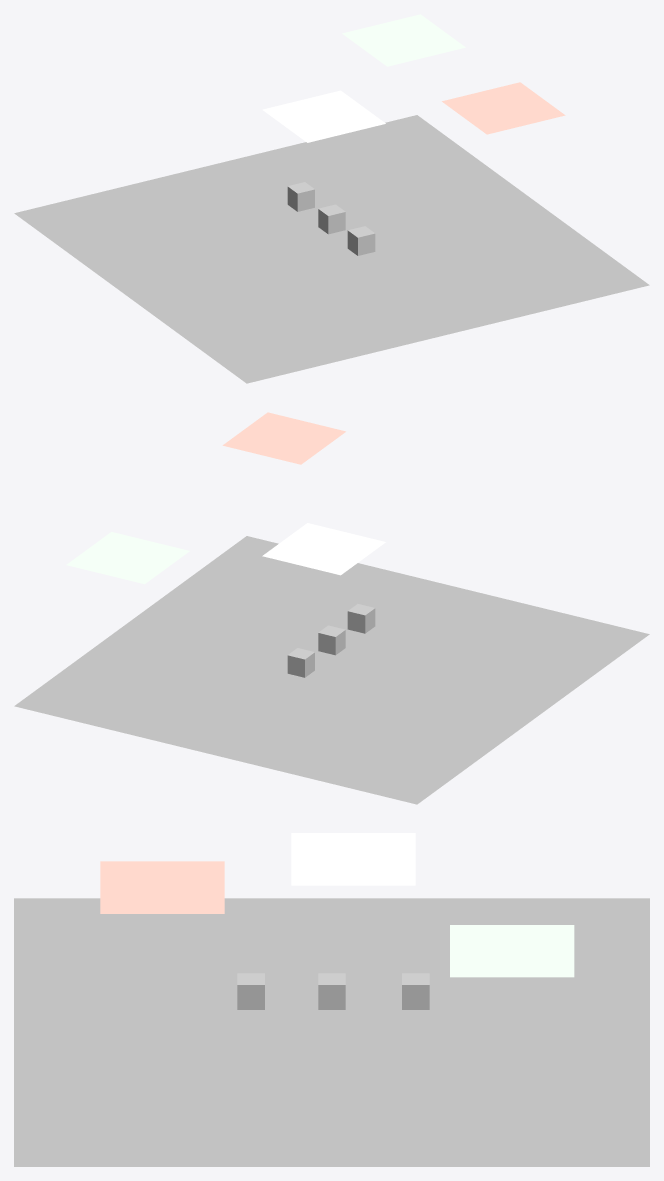
File: direct_lighting_test.glb
3 views of the same model, one above another, from view 1: azimuth 30°, elevation 25°; view 2: azimuth 150°, elevation 25°; view 3: azimuth 270°, elevation 25° (orthographic). The views are drawn at different scales.
Visible parts, largest first — view 1: Plane, Plane.003, Plane.001, Plane.002, Cube.002, Cube, Cube.001; view 2: Plane, Plane.001, Plane.003, Plane.002, Cube.002, Cube, Cube.001; view 3: Plane, Plane.001, Plane.003, Plane.002, Cube, Cube.001, Cube.002.
Boxes of the visible parts, x1,y1,x2,y2 form: Plane: (14, 115, 649, 383); Plane.003: (442, 82, 565, 134); Plane.001: (262, 90, 385, 142); Plane.002: (342, 14, 465, 66); Cube.002: (347, 226, 375, 255); Cube: (318, 204, 345, 234); Cube.001: (287, 182, 314, 211); Plane: (14, 536, 649, 804); Plane.001: (262, 523, 385, 575); Plane.003: (222, 412, 345, 464); Plane.002: (66, 532, 189, 584); Cube.002: (347, 604, 375, 633); Cube: (318, 625, 345, 655); Cube.001: (287, 648, 314, 677); Plane: (14, 898, 649, 1166); Plane.001: (291, 833, 415, 885); Plane.003: (100, 861, 224, 913); Plane.002: (450, 925, 574, 977); Cube: (318, 973, 345, 1009); Cube.001: (402, 973, 429, 1009); Cube.002: (237, 973, 264, 1009).
Size of the model in its own units: 46.09 by 17.43 by 46.09.
